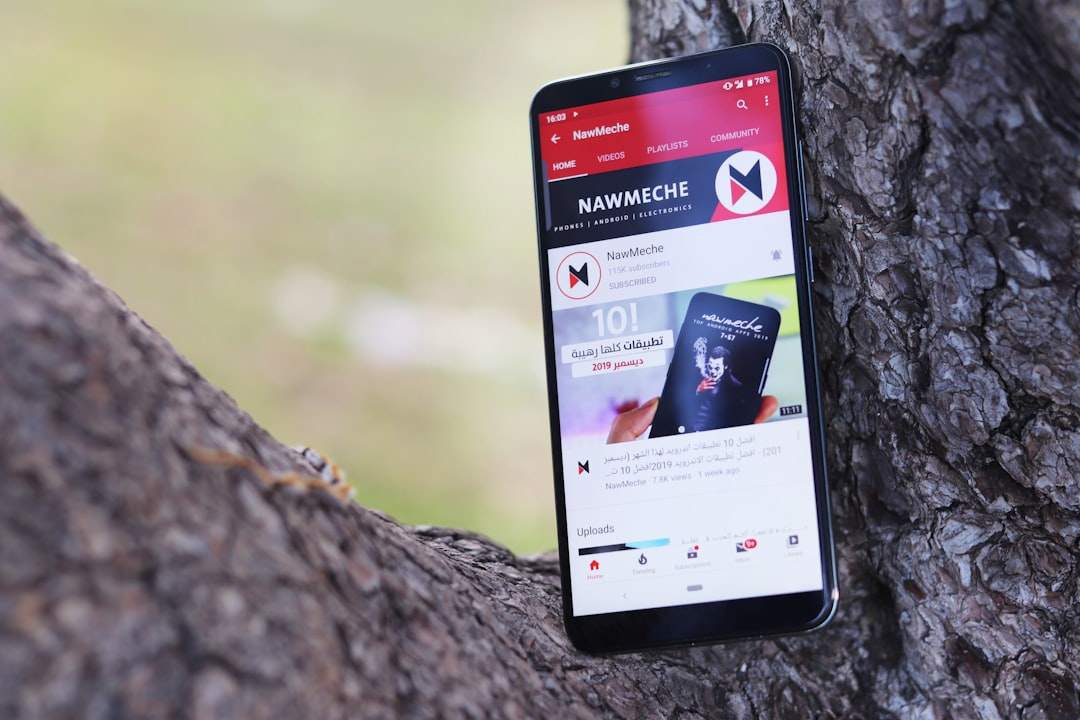phone: (530, 45, 842, 652)
